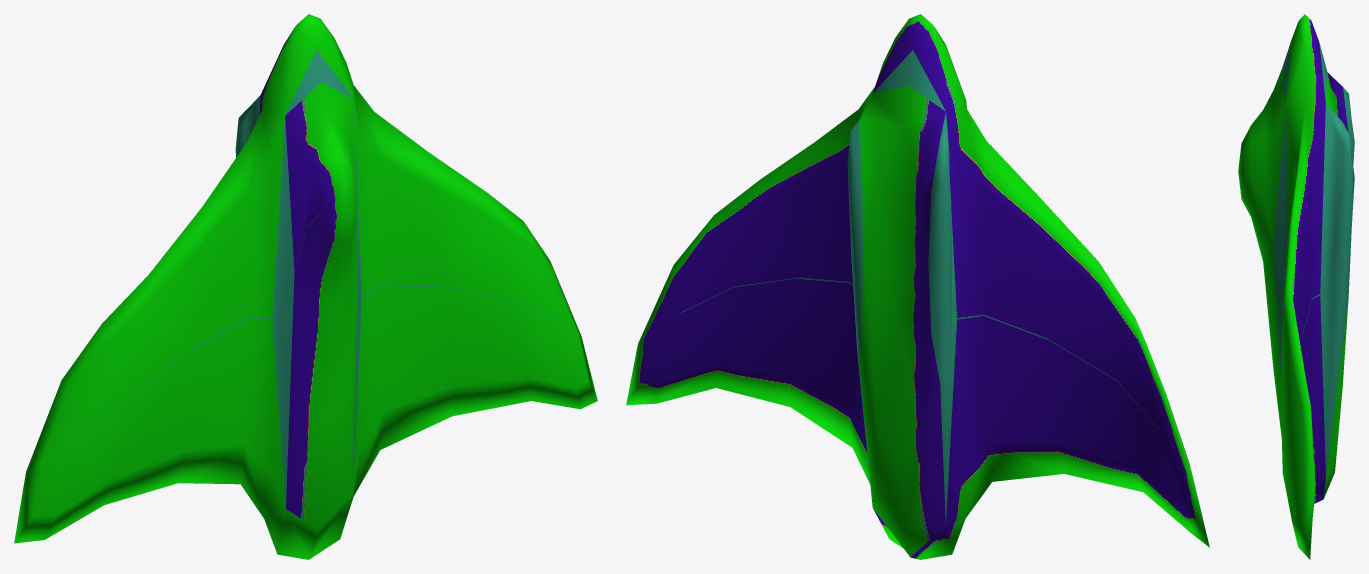
File: player4.FBX
3 renders of one model, left to right at view 1: azimuth 30°, elevation 25°; view 2: azimuth 150°, elevation 25°; view 3: azimuth 270°, elevation 25°, orthographic. The views are drawn at different scales.
Parts seen in each view (by area): view 1: Box01; view 2: Box01; view 3: Box01.
Boxes of the visible parts, box(x1,y1,x2,y2) form: Box01: box(14, 14, 597, 559); Box01: box(626, 14, 1209, 559); Box01: box(1238, 14, 1354, 559).
Size of the model in its own units: 137 by 26.15 by 122.
1 material, 1 textured.
